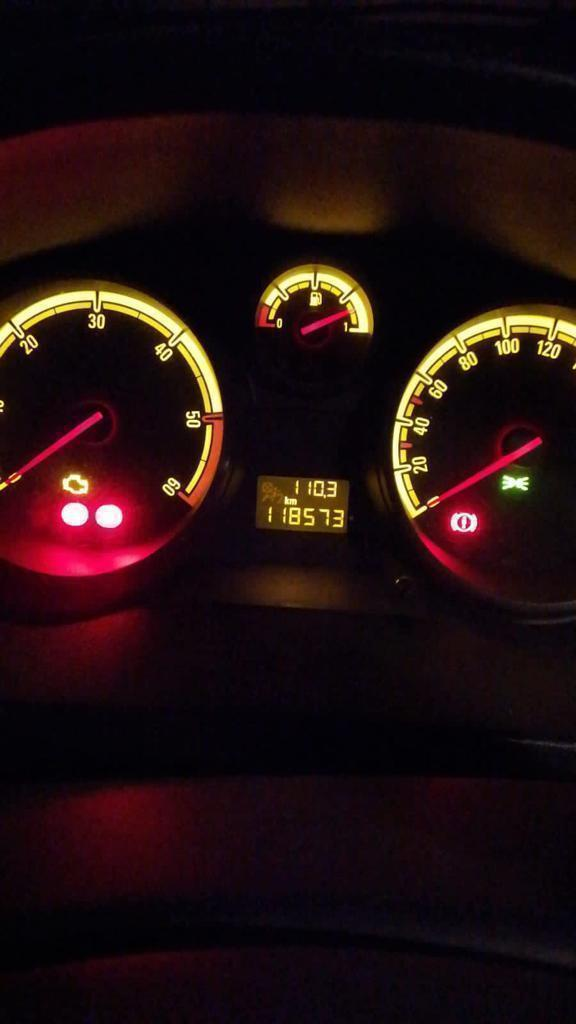,: (322, 494, 326, 499)
0: (313, 479, 324, 497)
1: (266, 504, 273, 524), (280, 505, 287, 524), (306, 478, 312, 496), (294, 478, 300, 495)
3: (330, 508, 344, 528), (326, 480, 337, 498)
5: (302, 506, 316, 527)
7: (317, 507, 330, 527)
8: (288, 506, 301, 526)
X: (283, 494, 289, 505), (289, 498, 297, 505)
odometer: (251, 471, 354, 535)
